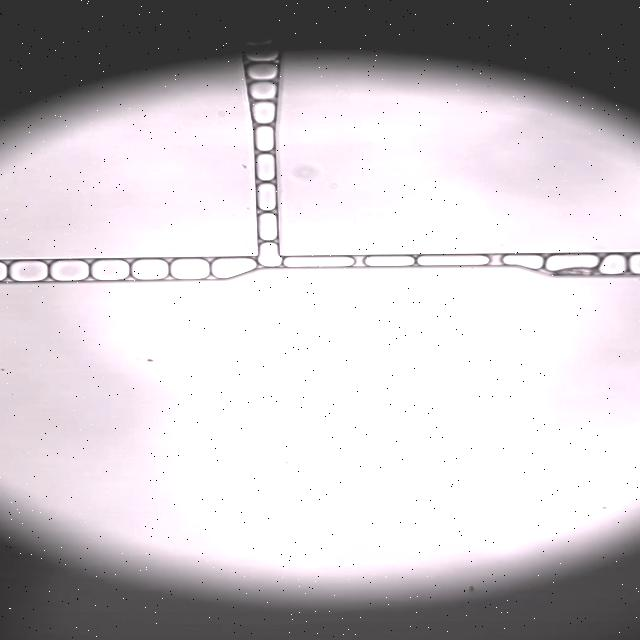L: (545, 255, 598, 273), (258, 242, 281, 267), (364, 256, 414, 267), (251, 102, 275, 124), (247, 63, 278, 80), (257, 183, 276, 210), (258, 213, 277, 240), (249, 81, 276, 100), (257, 154, 275, 181), (255, 126, 274, 151), (246, 51, 278, 62), (629, 254, 640, 274)
S: (212, 258, 256, 278), (50, 260, 89, 281), (417, 255, 488, 266), (10, 261, 47, 282), (91, 260, 129, 280), (171, 259, 209, 279), (284, 257, 354, 267), (132, 259, 167, 279), (503, 255, 543, 270), (605, 255, 625, 274)
